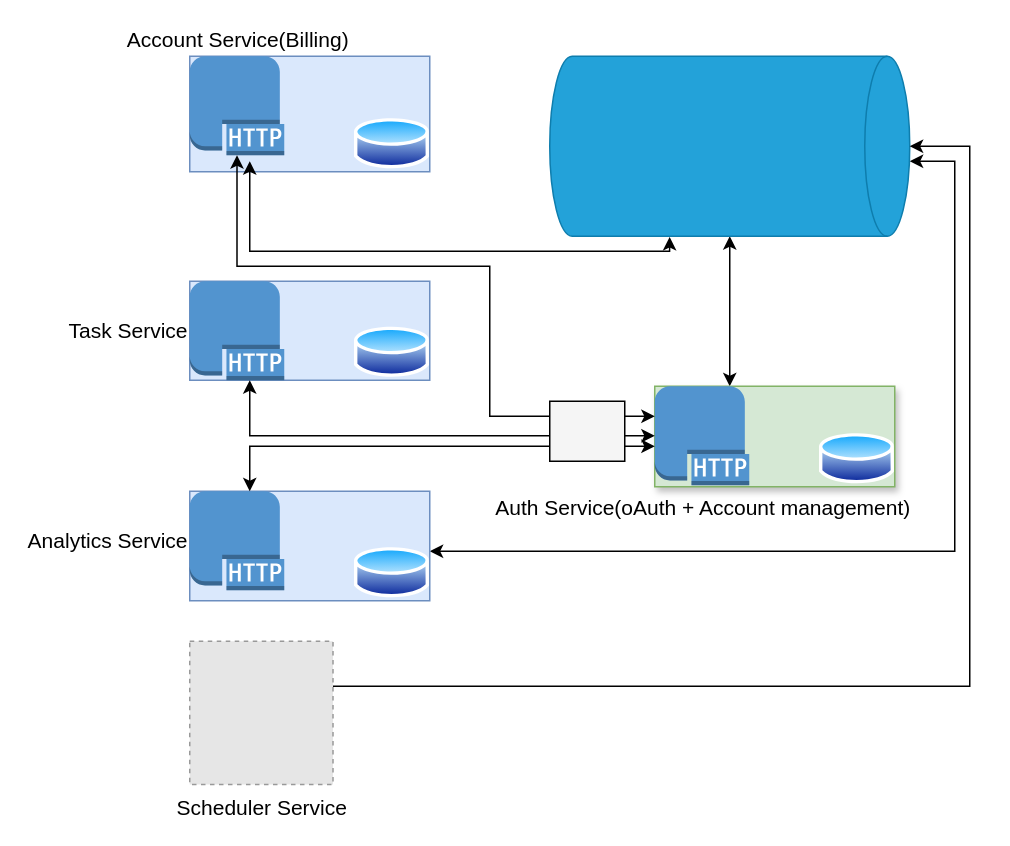
Image size: 1010x846. Some labels were removed from this diagram. Grey dashed boxes stand in for pictures. The shapes that lost their labels are listed below. From the top down, each one's centre as x and y in pixels, then its label:
point 729,145: Cross-service Message Bus [RabbitMQ: ]
point 586,430: oAuth
